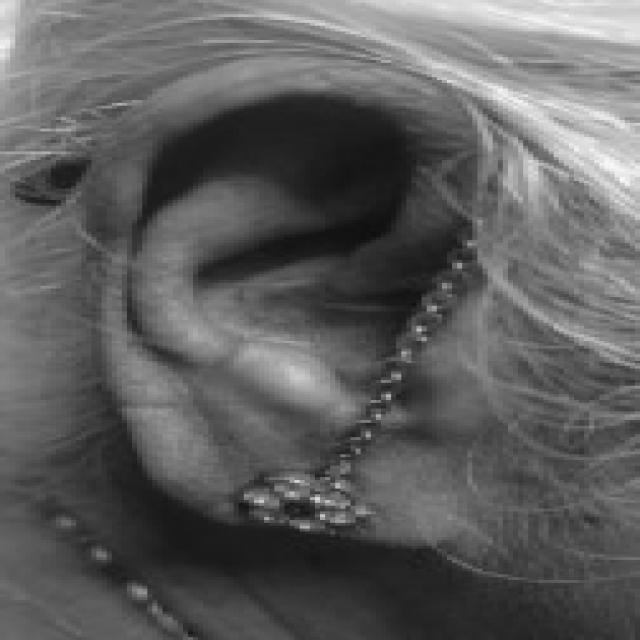ear: (91, 57, 467, 517)
